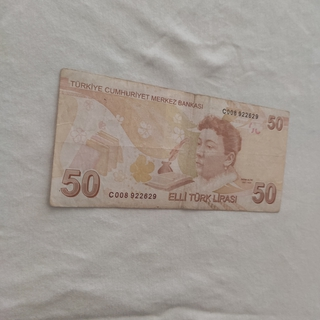50TLBack: (48, 68, 289, 213)
